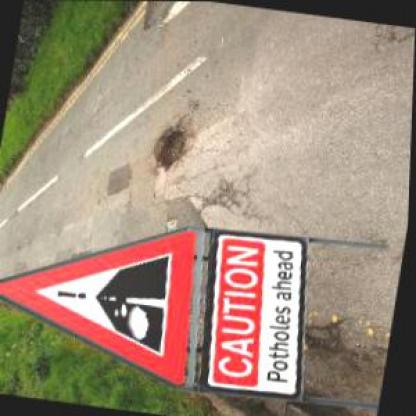pothole: (150, 116, 197, 172)
